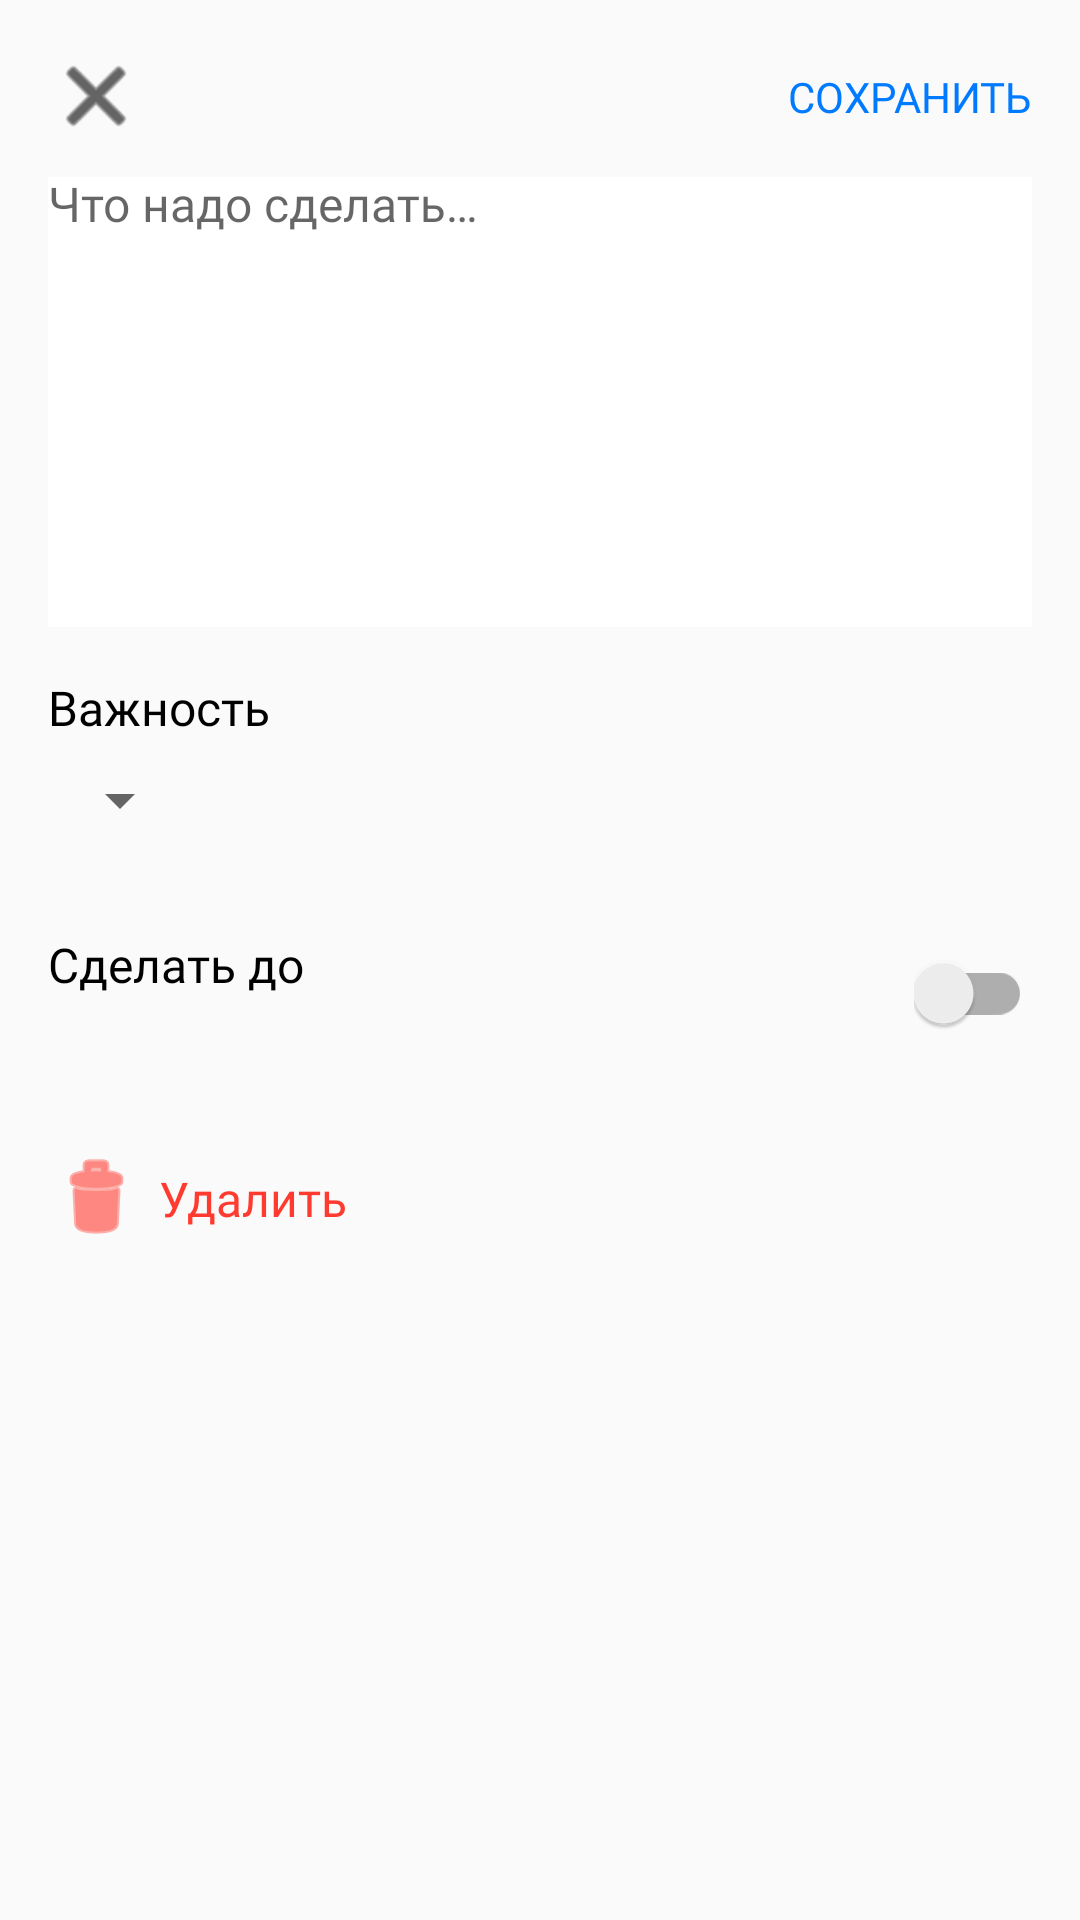

Icons on this 1080px×1920px Android screen, each with the point to tap as (x=x, y=y):
cancel sign: (x=96, y=96)
delete: (x=96, y=1196)
